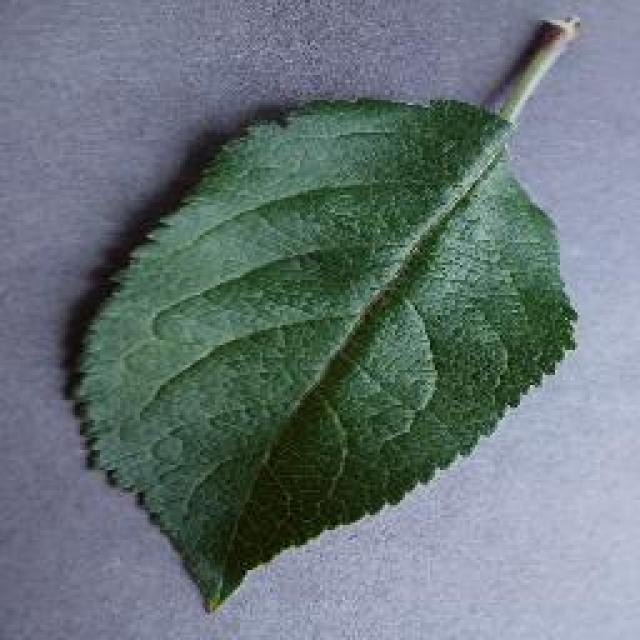apple healthy: (67, 10, 585, 612)
